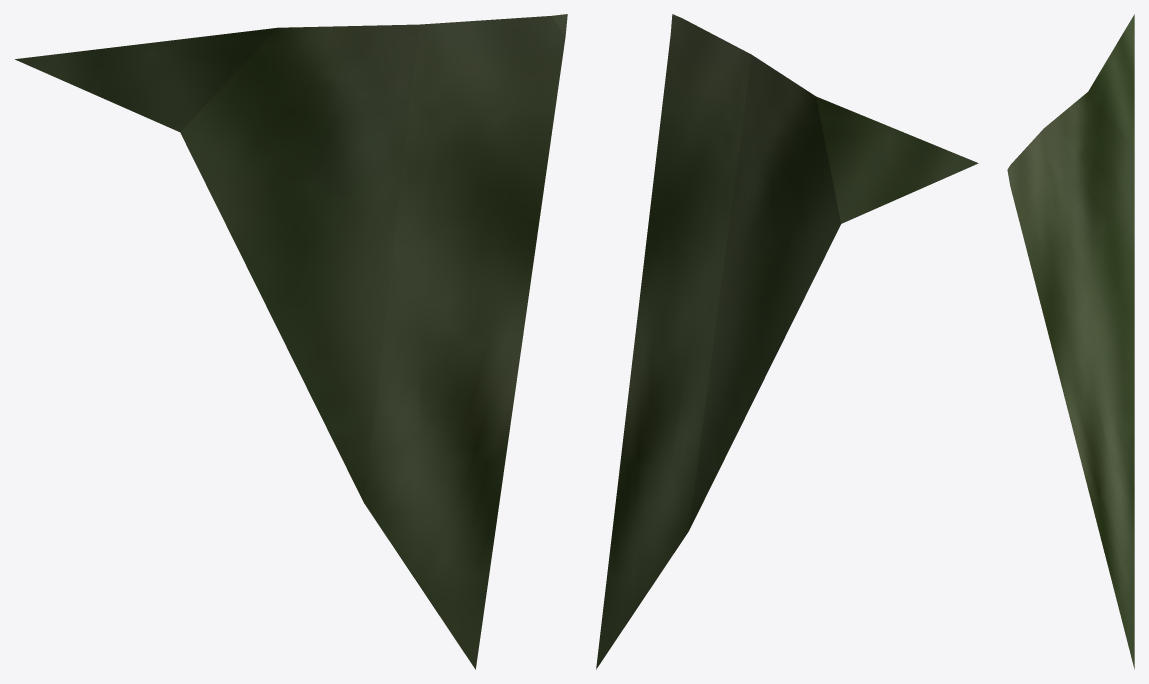
The picture shows the model from 3 angles, left to right: view 1: azimuth 30°, elevation 25°; view 2: azimuth 150°, elevation 25°; view 3: azimuth 270°, elevation 25°; orthographic projection. The views are drawn at different scales.
Size of the model in its own units: 0.3527 by 0.5283 by 0.1218.
Materials: 1 (1 with a texture image).
